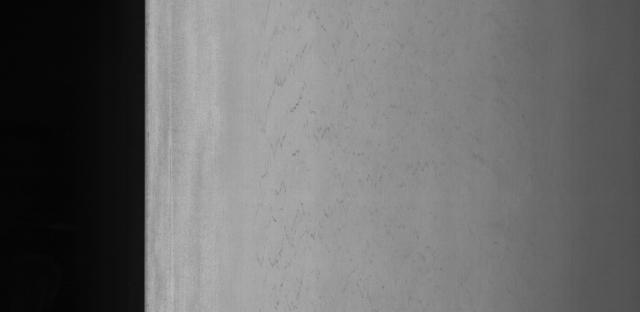silk_spot: (267, 23, 438, 238)
